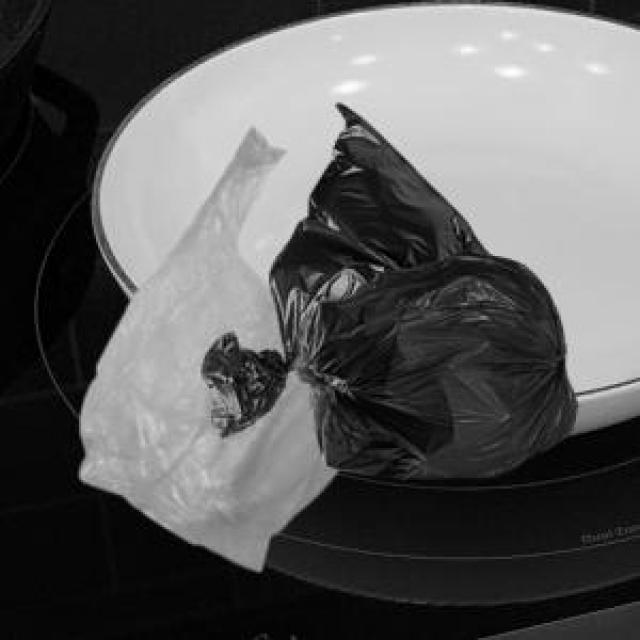miscellaneous trash: (198, 100, 482, 433), (290, 245, 574, 476)
